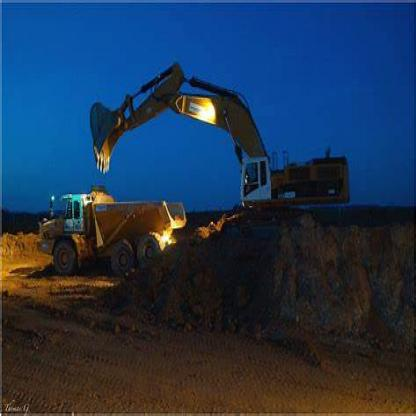dump_truck: (27, 178, 185, 287)
excavator: (88, 54, 348, 213)
